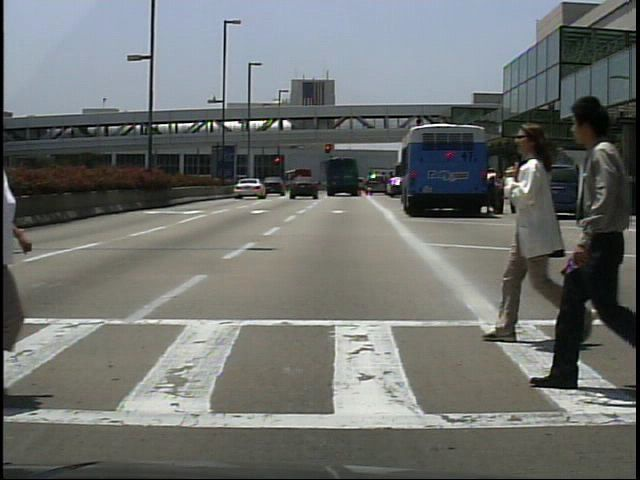person: (524, 77, 640, 395), (483, 117, 581, 349), (582, 168, 602, 218), (485, 162, 502, 215), (508, 166, 520, 216)
